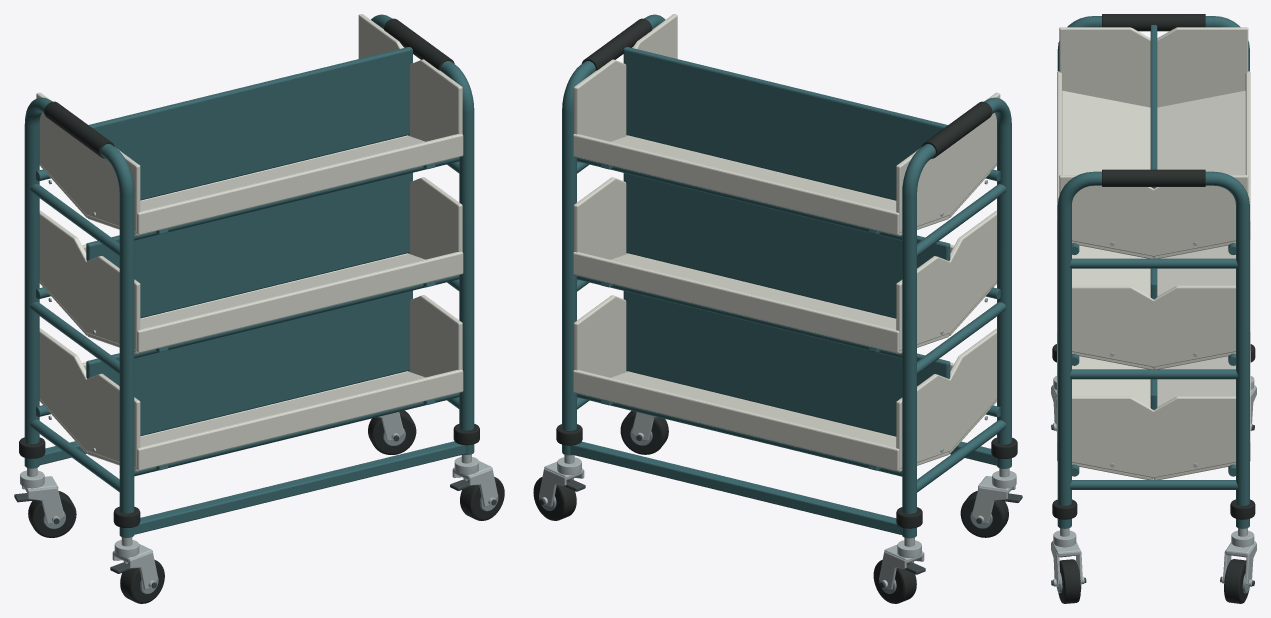
Rendered from city-library-book-trolley.glb.
3 renders of one model, left to right at view 1: azimuth 30°, elevation 25°; view 2: azimuth 150°, elevation 25°; view 3: azimuth 270°, elevation 25°, orthographic. The views are drawn at different scales.
Visible parts, largest first — view 1: Assembly | Deep petrol powder coat, Assembly | Warm ivory enamel, Assembly | Soft charcoal contact pads, Assembly | Satin stainless fittings; view 2: Assembly | Deep petrol powder coat, Assembly | Warm ivory enamel, Assembly | Soft charcoal contact pads, Assembly | Satin stainless fittings; view 3: Assembly | Warm ivory enamel, Assembly | Deep petrol powder coat, Assembly | Soft charcoal contact pads, Assembly | Satin stainless fittings.
Boxes of the visible parts, x1,y1,x2,y2 form: Assembly | Deep petrol powder coat: [24, 14, 474, 537]; Assembly | Warm ivory enamel: [36, 14, 463, 471]; Assembly | Soft charcoal contact pads: [19, 18, 504, 603]; Assembly | Satin stainless fittings: [20, 180, 497, 589]; Assembly | Deep petrol powder coat: [562, 14, 1011, 538]; Assembly | Warm ivory enamel: [573, 14, 1000, 471]; Assembly | Soft charcoal contact pads: [533, 18, 1017, 603]; Assembly | Satin stainless fittings: [539, 180, 1016, 589]; Assembly | Warm ivory enamel: [1057, 27, 1250, 479]; Assembly | Deep petrol powder coat: [1057, 16, 1249, 528]; Assembly | Soft charcoal contact pads: [1052, 14, 1255, 603]; Assembly | Satin stainless fittings: [1051, 242, 1256, 586].
Size of the model in its own units: 1.03 by 1.13 by 0.4973.
